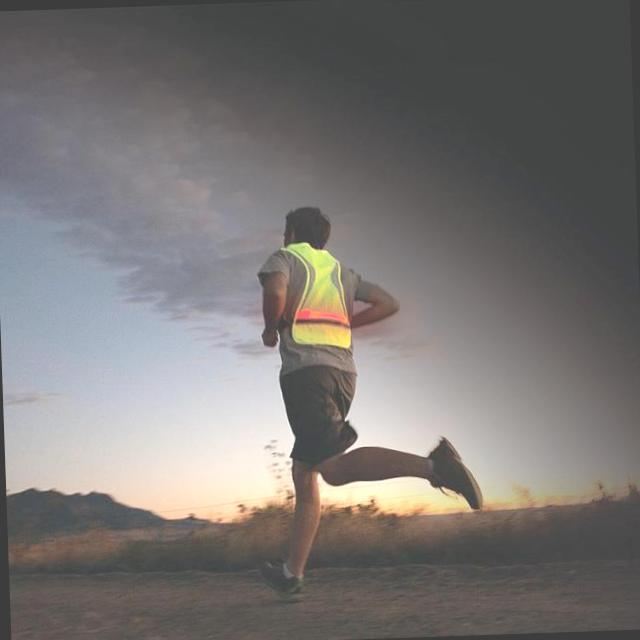vest: (273, 242, 354, 369)
